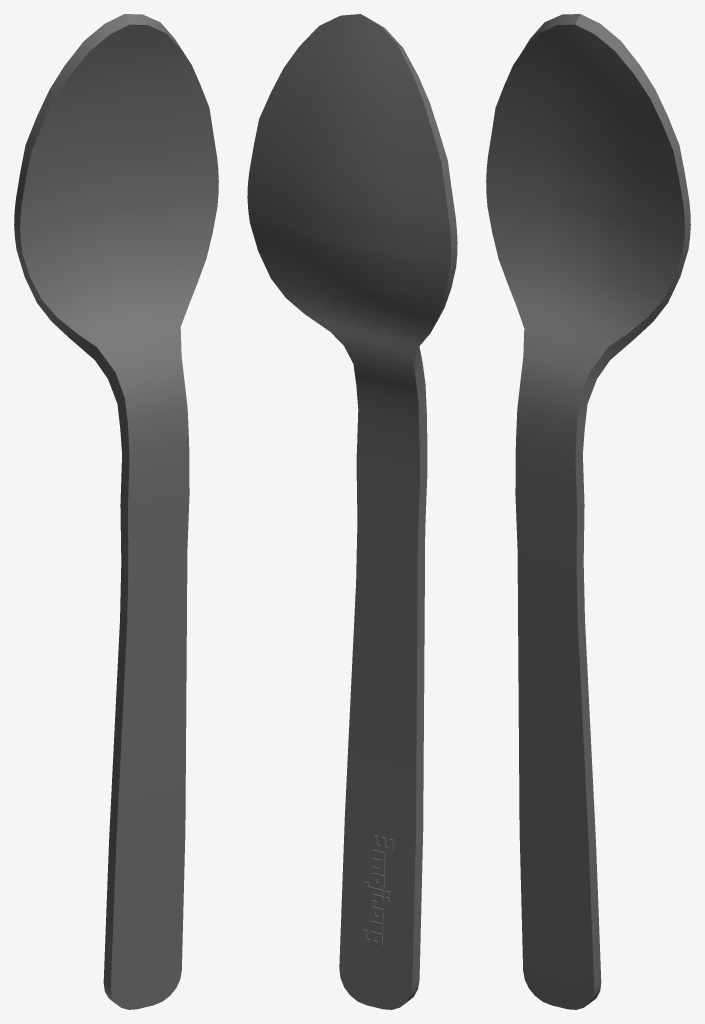
File: spoon.fbx
3 views of the same model, side by side, from view 1: azimuth 30°, elevation 25°; view 2: azimuth 150°, elevation 25°; view 3: azimuth 330°, elevation 25° (orthographic). The views are drawn at different scales.
Visible parts, largest first — view 1: Cube.453; view 2: Cube.453; view 3: Cube.453.
Boxes of the visible parts, x1,y1,x2,y2 form: Cube.453: (14, 14, 218, 1009); Cube.453: (247, 14, 457, 1009); Cube.453: (486, 14, 690, 1009).
Size of the model in its own units: 47.93 by 225 by 22.71.
Materials: 1 (1 with a texture image).
